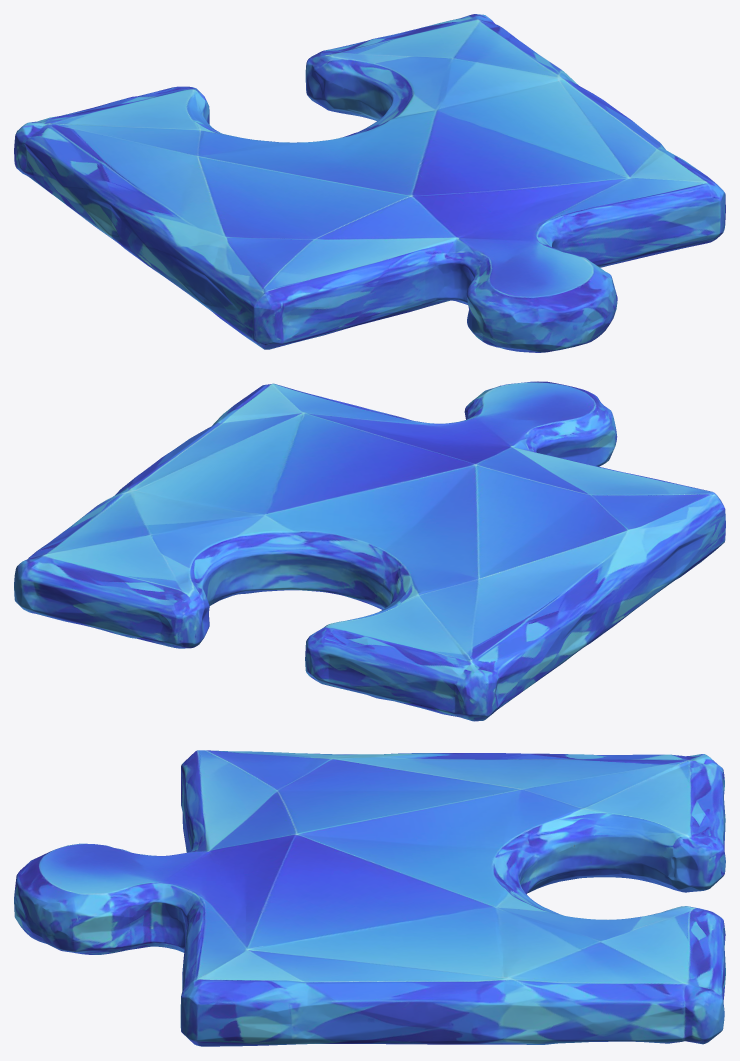
The model's file is puzzle.glb.
The picture shows the model from 3 angles, top to bottom: view 1: azimuth 30°, elevation 25°; view 2: azimuth 150°, elevation 25°; view 3: azimuth 270°, elevation 25°; orthographic projection. The views are drawn at different scales.
Visible parts, largest first — view 1: tripo_node_7120d1e1-4f75-4f7f-b13c-eb7a3139e832; view 2: tripo_node_7120d1e1-4f75-4f7f-b13c-eb7a3139e832; view 3: tripo_node_7120d1e1-4f75-4f7f-b13c-eb7a3139e832.
Part boxes in pixels (x1,y1,x2,y2): tripo_node_7120d1e1-4f75-4f7f-b13c-eb7a3139e832: (14,14,725,352); tripo_node_7120d1e1-4f75-4f7f-b13c-eb7a3139e832: (14,381,725,721); tripo_node_7120d1e1-4f75-4f7f-b13c-eb7a3139e832: (14,750,725,1046).
Size of the model in its own units: 0.8147 by 0.1362 by 0.9808.
Materials: 1 (1 with a texture image).
